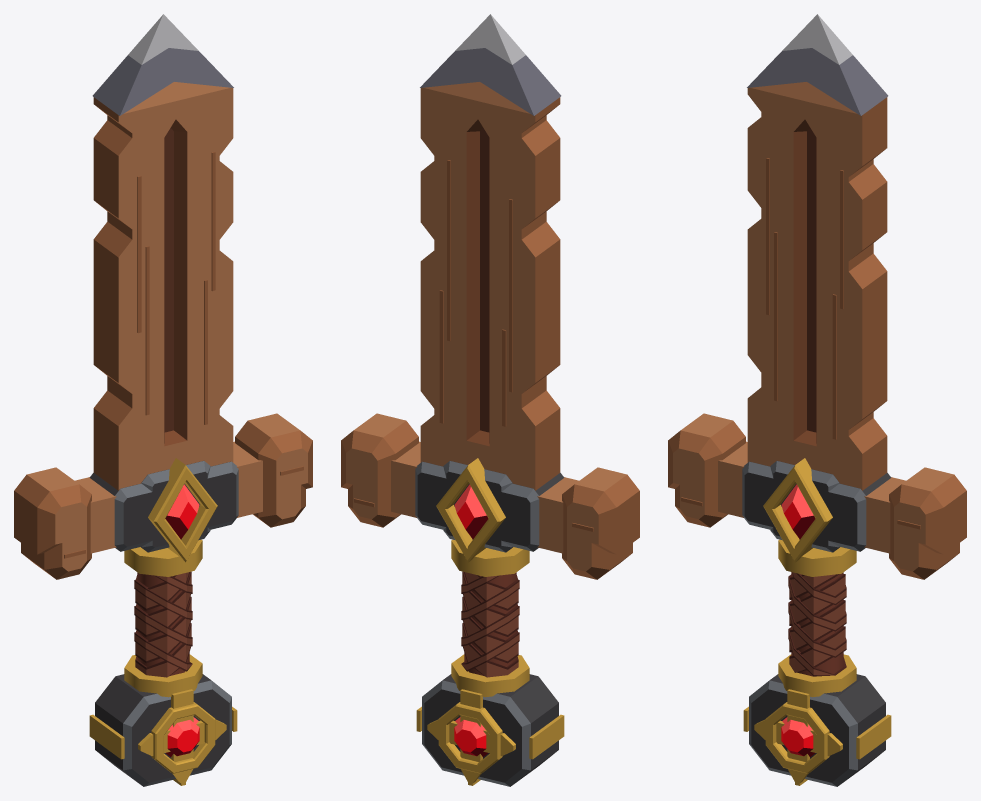
Rendered from timber_blade.glb.
3 views of the same model, side by side, from view 1: azimuth 30°, elevation 25°; view 2: azimuth 150°, elevation 25°; view 3: azimuth 330°, elevation 25° (orthographic).
Parts seen in each view (by area): view 1: blade_face_front, blade_core, guard_end_l, pommel, blade_tip_steel, guard_housing, guard_end_r, blade_fuller_wall_front, guard_bar, blade_face_back, guard_gem_frame, pommel_ring_front (+20 smaller); view 2: blade_face_back, blade_core, guard_end_l, pommel, blade_tip_steel, guard_housing, guard_end_r, blade_fuller_wall_back, guard_bar, blade_face_front, guard_gem_frame, pommel_ring_back (+19 smaller); view 3: blade_face_front, blade_core, guard_end_r, pommel, blade_tip_steel, guard_housing, guard_end_l, blade_fuller_wall_front, guard_bar, blade_face_back, guard_gem_frame, pommel_ring_front (+19 smaller).
Part boxes in pixels (x1,y1,x2,y2): blade_face_front: (112, 87, 233, 490); blade_core: (100, 102, 173, 485); guard_end_l: (14, 467, 91, 579); pommel: (95, 674, 231, 786); blade_tip_steel: (92, 14, 233, 115); guard_housing: (89, 461, 238, 552); guard_end_r: (235, 413, 312, 527); blade_fuller_wall_front: (164, 119, 187, 446); guard_bar: (75, 441, 262, 553); blade_face_back: (93, 97, 113, 476); guard_gem_frame: (148, 458, 217, 562); pommel_ring_front: (151, 702, 215, 773); blade_face_back: (420, 87, 541, 490); blade_core: (480, 102, 553, 485); guard_end_l: (562, 467, 639, 579); pommel: (422, 674, 558, 786); blade_tip_steel: (420, 14, 561, 115); guard_housing: (415, 461, 564, 552); guard_end_r: (341, 413, 418, 527); blade_fuller_wall_back: (466, 119, 489, 446); guard_bar: (391, 441, 578, 553); blade_face_front: (540, 97, 560, 476); guard_gem_frame: (436, 458, 505, 562); pommel_ring_back: (438, 702, 502, 773); blade_face_front: (747, 87, 868, 490); blade_core: (807, 102, 880, 485); guard_end_r: (889, 467, 966, 579); pommel: (749, 674, 885, 786); blade_tip_steel: (747, 14, 888, 115); guard_housing: (742, 461, 891, 552); guard_end_l: (668, 413, 745, 527); blade_fuller_wall_front: (793, 119, 816, 446); guard_bar: (718, 441, 905, 553); blade_face_back: (867, 97, 887, 476); guard_gem_frame: (763, 458, 832, 562); pommel_ring_front: (765, 702, 829, 773).
Size of the model in its own units: 0.48 by 1.26 by 0.15.
